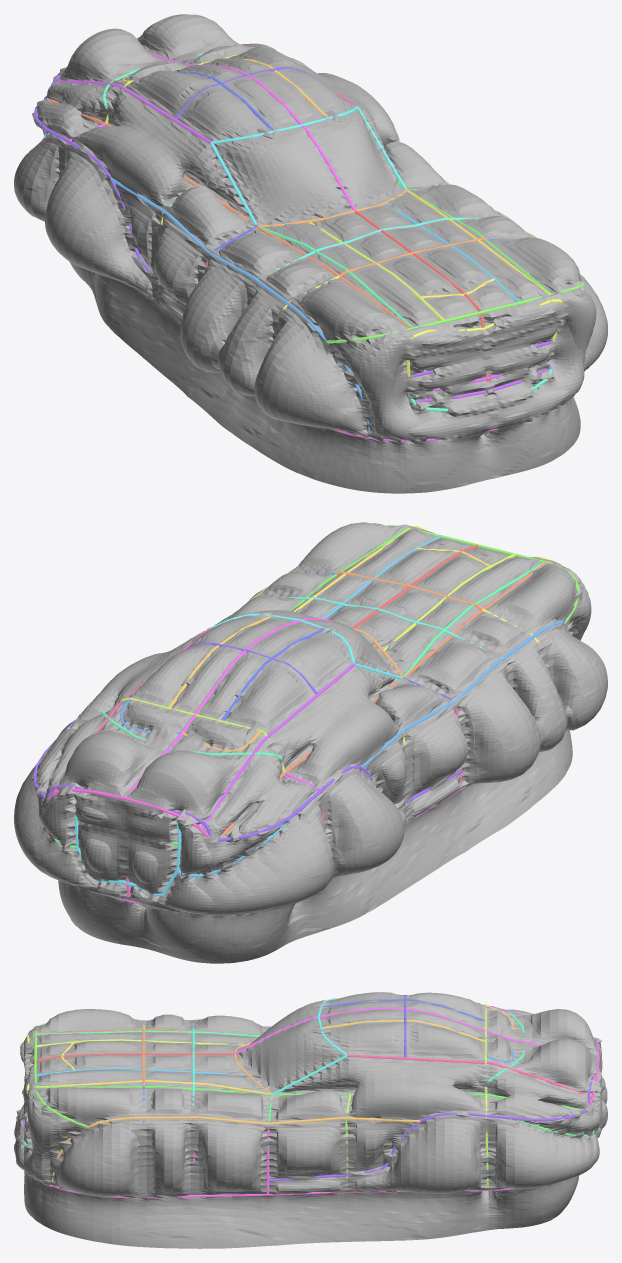
Rendered from t2f_car_97.gltf.
The picture shows the model from 3 angles, top to bottom: view 1: azimuth 30°, elevation 25°; view 2: azimuth 150°, elevation 25°; view 3: azimuth 270°, elevation 25°; orthographic projection. The views are drawn at different scales.
Bounding box in the file's own units: 0.4811 × 0.31 × 0.9171.
